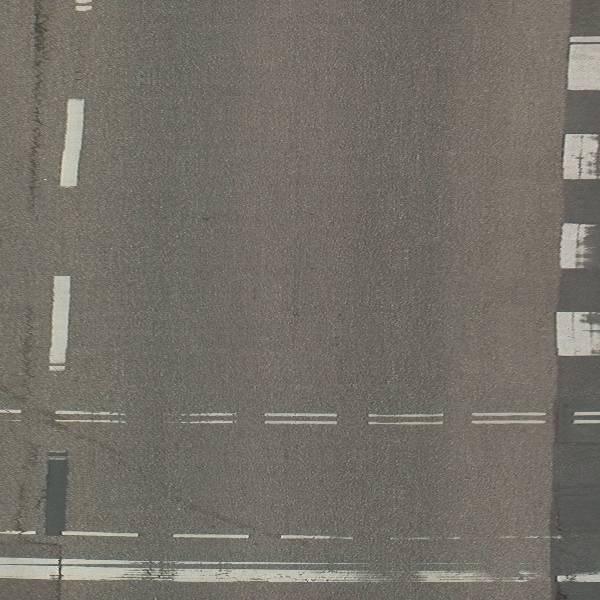road_damage: (27, 1, 48, 218), (165, 495, 270, 532), (38, 444, 74, 540), (17, 304, 40, 406), (52, 551, 67, 600)
